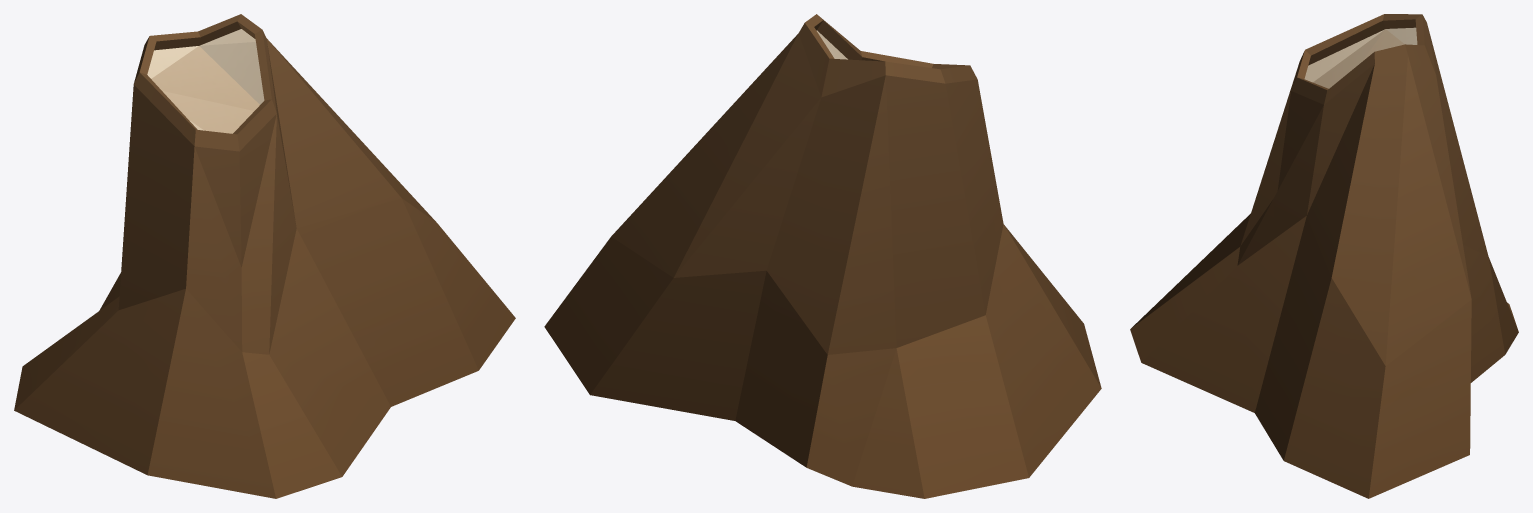
File: stump_oak.fbx
The picture shows the model from 3 angles, left to right: view 1: azimuth 30°, elevation 25°; view 2: azimuth 150°, elevation 25°; view 3: azimuth 270°, elevation 25°; orthographic projection. The views are drawn at different scales.
Visible parts, largest first — view 1: stump_oak; view 2: stump_oak; view 3: stump_oak.
Boxes of the visible parts, bbox=[...] form: stump_oak: bbox=[14, 14, 515, 498]; stump_oak: bbox=[544, 14, 1101, 498]; stump_oak: bbox=[1130, 14, 1518, 498].
Bounding box in the file's own units: 2.01 × 1.43 × 1.51.
Materials: 1 (1 with a texture image).
